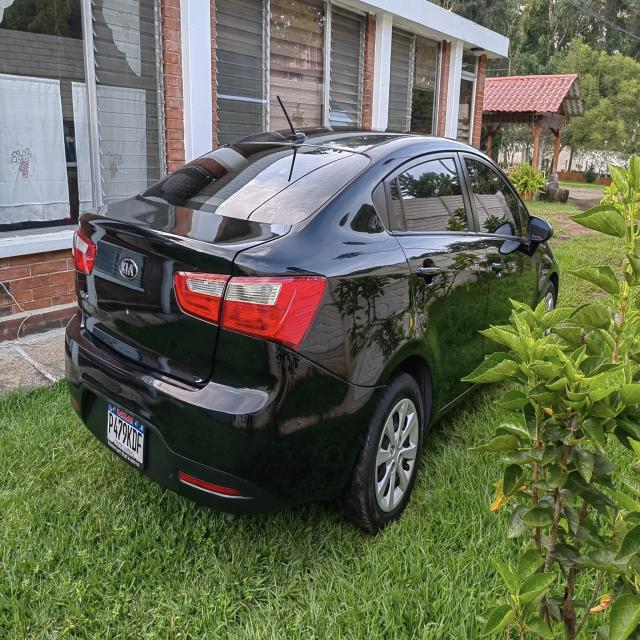Placas: (103, 399, 147, 474)
